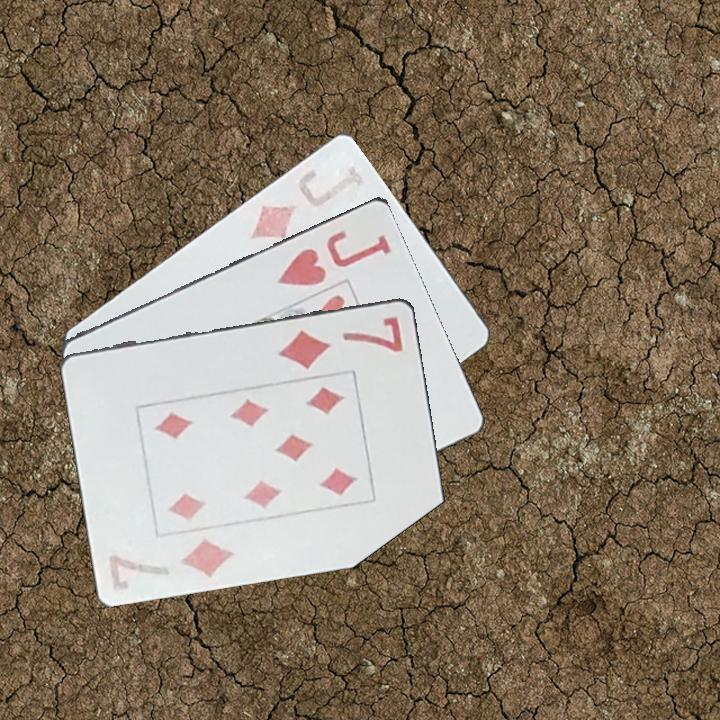7d: (105, 532, 238, 592), (274, 313, 406, 372)
Jd: (247, 156, 367, 242)
Jh: (274, 226, 395, 289)
